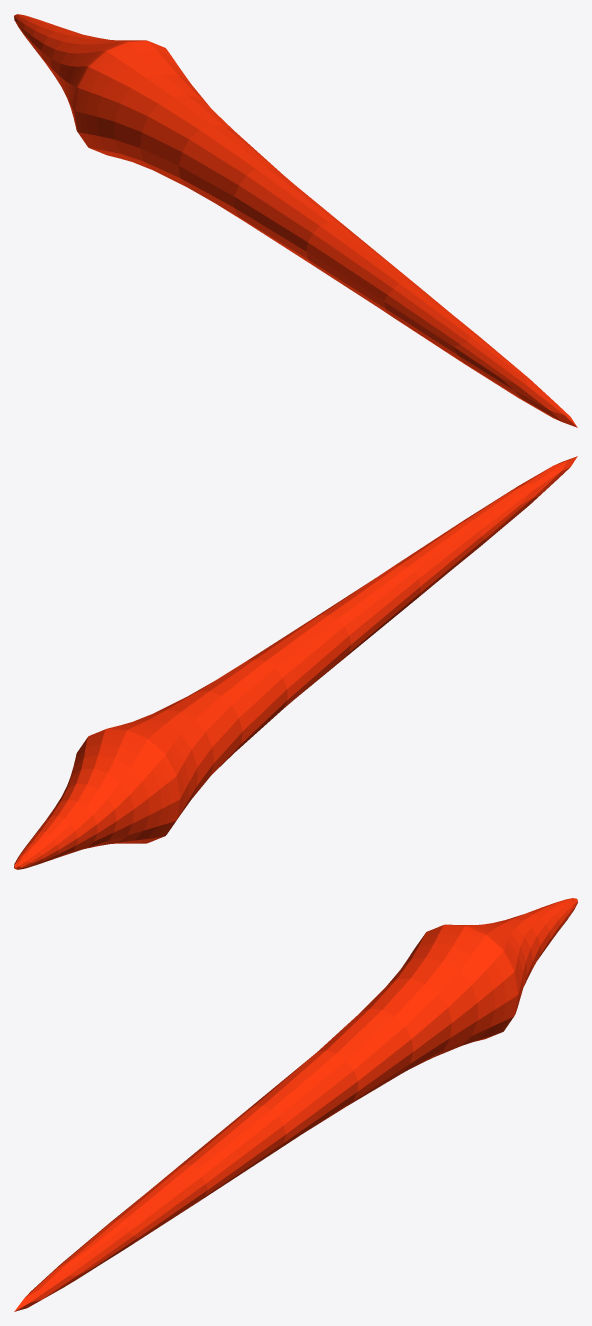
The model's file is arrow.fbx.
3 views of the same model, one above another, from view 1: azimuth 30°, elevation 25°; view 2: azimuth 150°, elevation 25°; view 3: azimuth 330°, elevation 25° (orthographic).
Visible parts, largest first — view 1: Cube; view 2: Cube; view 3: Cube.
Boxes of the visible parts, x1,y1,x2,y2 form: Cube: [14, 14, 577, 427]; Cube: [14, 456, 577, 869]; Cube: [14, 898, 577, 1311].
Bounding box in the file's own units: 257 × 257 × 2359.
